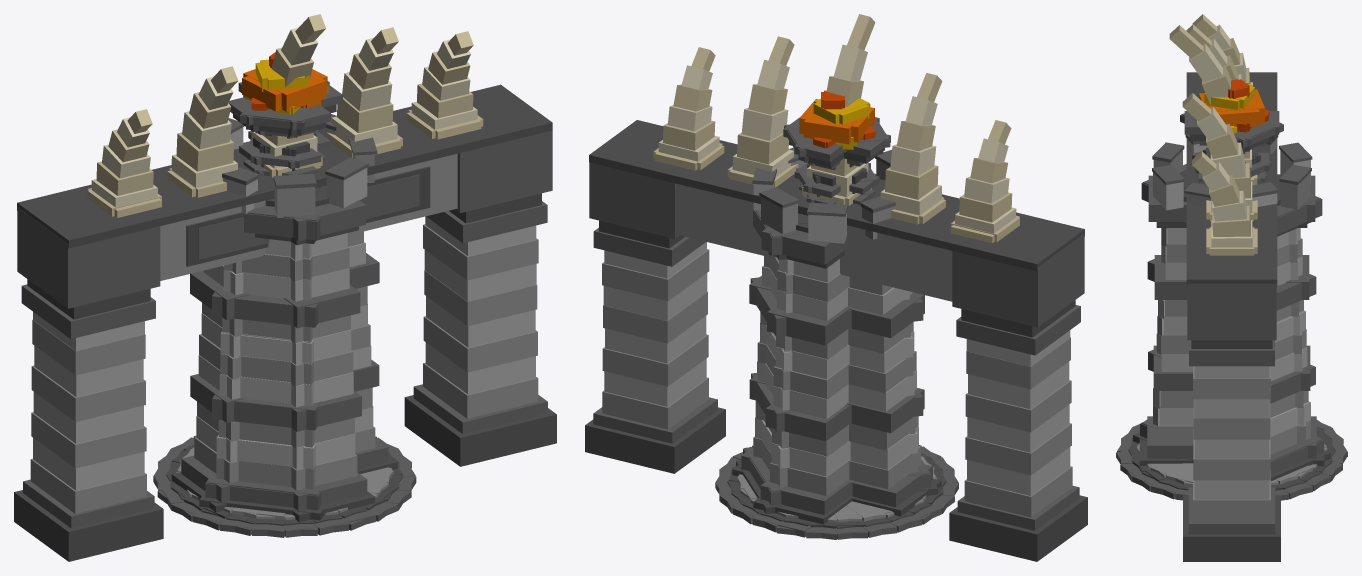
The model's file is ArenaProps.fbx.
The picture shows the model from 3 angles, left to right: view 1: azimuth 30°, elevation 25°; view 2: azimuth 150°, elevation 25°; view 3: azimuth 270°, elevation 25°; orthographic projection. The views are drawn at different scales.
Visible parts, largest first — view 1: ArenaGate, ArenaTower, ArenaHand; view 2: ArenaGate, ArenaTower, ArenaHand; view 3: ArenaGate, ArenaTower, ArenaHand.
Boxes of the visible parts, box(x1,y1,x2,y2) form: ArenaGate: box(14, 14, 556, 561); ArenaTower: box(171, 52, 397, 521); ArenaHand: box(153, 435, 416, 537); ArenaGate: box(585, 14, 1087, 561); ArenaTower: box(732, 90, 941, 524); ArenaHand: box(715, 445, 958, 539); ArenaGate: box(1169, 14, 1280, 561); ArenaTower: box(1133, 79, 1330, 481); ArenaHand: box(1116, 419, 1347, 500).
Size of the model in its own units: 88.35 by 84.96 by 41.36.
